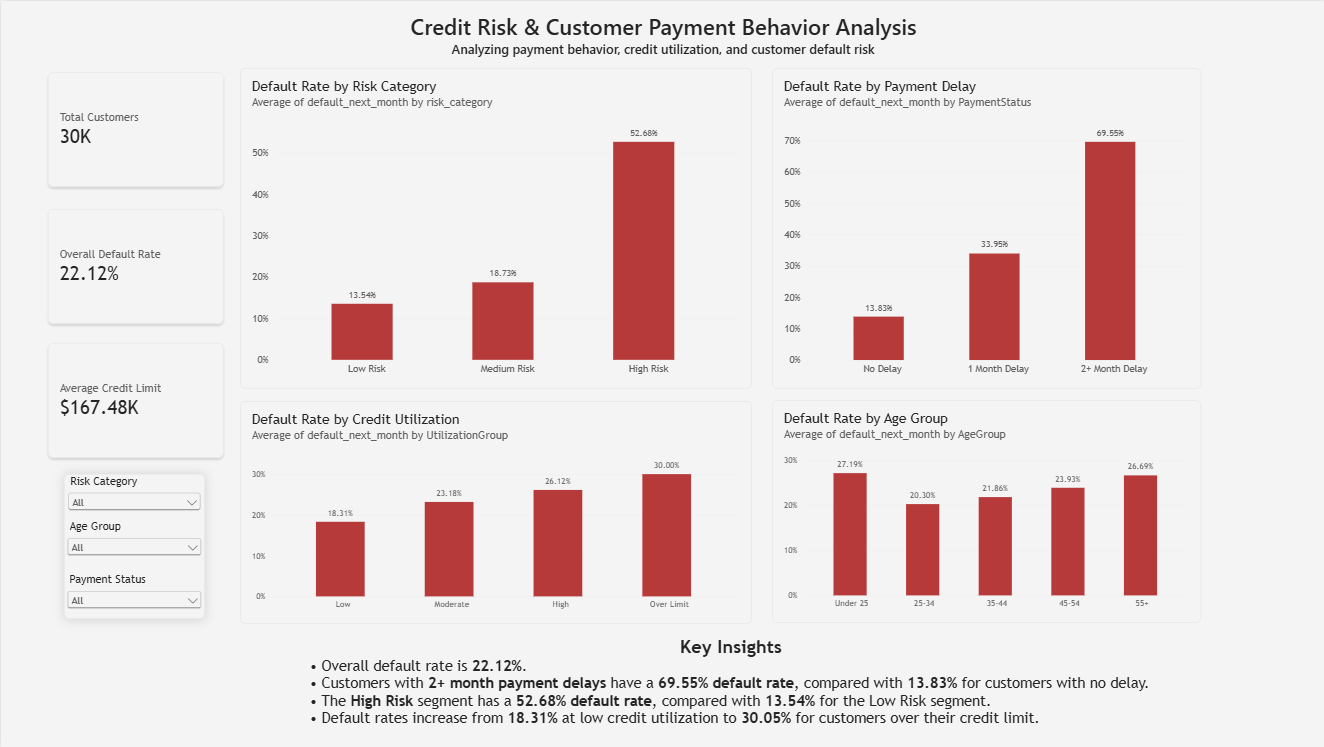

What the dashboard file says about the page in this screenshot:
{"tool":"powerbi","page":{"name":"Page 1","canvas":[1920,1080],"ordinal":0},"visuals":[{"type":"cardVisual","fields":{"Data":["CountNonNull(credit_risk_analysis customer_risk_analysis.customer_id)"]},"box":[62.3,97.1,266.7,178.3],"z":0},{"type":"cardVisual","fields":{"Data":["Avg(credit_risk_analysis customer_risk_analysis.default_next_month)"]},"box":[62.3,295.7,266.7,178.3],"z":1000},{"type":"cardVisual","fields":{"Data":["Avg(credit_risk_analysis customer_risk_analysis.credit_limit)"]},"box":[62.3,489.9,266.7,178.3],"z":2000},{"type":"clusteredColumnChart","title":"Default Rate by Risk Category","fields":{"Category":["credit_risk_analysis customer_risk_analysis.risk_category"],"Y":["Avg(credit_risk_analysis customer_risk_analysis.default_next_month)"]},"box":[346.4,97.1,741.5,464.9],"z":3000},{"type":"clusteredColumnChart","title":"Default Rate by Payment Delay","fields":{"Category":["customer_risk_analysis.PaymentStatus"],"Y":["Avg(customer_risk_analysis.default_next_month)"]},"box":[1117.4,97.1,621.7,465.2],"z":4000},{"type":"clusteredColumnChart","title":"Default Rate by Credit Utilization","fields":{"Category":["customer_risk_analysis.UtilizationGroup"],"Y":["Avg(customer_risk_analysis.default_next_month)"]},"box":[346.4,579.7,742,323.2],"z":5000},{"type":"clusteredColumnChart","title":"Default Rate by Age Group","fields":{"Category":["customer_risk_analysis.AgeGroup"],"Y":["Avg(customer_risk_analysis.default_next_month)"]},"box":[1117.4,578.3,621.7,323.2],"z":6000},{"type":"textbox","box":[0,14.5,1920.3,42],"z":7000},{"type":"textbox","box":[585.5,56.5,747.8,27.5],"z":8000},{"type":"slicer","fields":{"Values":["customer_risk_analysis.risk_category"]},"box":[91.3,685.5,204.3,210.1],"z":9000},{"type":"slicer","fields":{"Values":["customer_risk_analysis.AgeGroup"]},"box":[91.3,752.2,204.3,76.8],"z":10000},{"type":"slicer","fields":{"Values":["customer_risk_analysis.PaymentStatus"]},"box":[91.3,829,204.3,62.3],"z":11000},{"type":"textbox","box":[440.6,920.3,1234.8,159.4],"z":12000}]}

Visuals, with their boxes in screenshot pixels (x1, y1, x2, y2), scaled from the page's 1920x1080 canvas onto the 1324x747 screenshot:
cardVisual - CountNonNull(credit_risk_analysis customer_risk_analysis.customer_id): l=43, t=67, r=227, b=190
cardVisual - Avg(credit_risk_analysis customer_risk_analysis.default_next_month): l=43, t=205, r=227, b=328
cardVisual - Avg(credit_risk_analysis customer_risk_analysis.credit_limit): l=43, t=339, r=227, b=462
"Default Rate by Risk Category" clusteredColumnChart: l=239, t=67, r=750, b=389
"Default Rate by Payment Delay" clusteredColumnChart: l=771, t=67, r=1199, b=389
"Default Rate by Credit Utilization" clusteredColumnChart: l=239, t=401, r=751, b=625
"Default Rate by Age Group" clusteredColumnChart: l=771, t=400, r=1199, b=624
textbox: l=0, t=10, r=1323, b=39
textbox: l=404, t=39, r=919, b=58
slicer - customer_risk_analysis.risk_category: l=63, t=474, r=204, b=619
slicer - customer_risk_analysis.AgeGroup: l=63, t=520, r=204, b=573
slicer - customer_risk_analysis.PaymentStatus: l=63, t=573, r=204, b=616
textbox: l=304, t=637, r=1155, b=746
